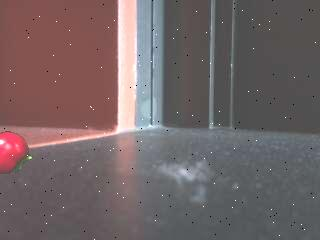Tomato: (0, 131, 33, 175)
